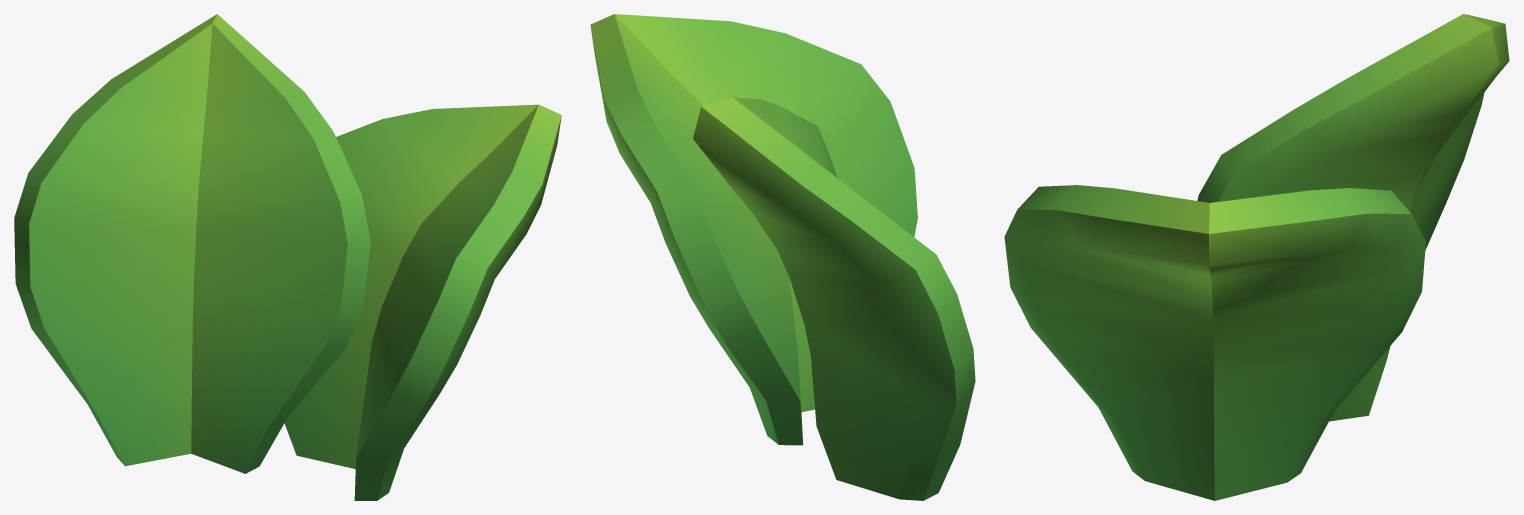
File: Foliage A.glb
3 views of the same model, side by side, from view 1: azimuth 30°, elevation 25°; view 2: azimuth 150°, elevation 25°; view 3: azimuth 270°, elevation 25° (orthographic). The views are drawn at different scales.
Parts seen in each view (by area): view 1: foliage_A; view 2: foliage_A; view 3: foliage_A.
Boxes of the visible parts, <box> form: foliage_A: <box>14,14,561,500</box>; foliage_A: <box>590,14,975,500</box>; foliage_A: <box>1004,14,1509,500</box>.
Size of the model in its own units: 0.5275 by 0.4319 by 0.445.
1 material, 1 textured.
